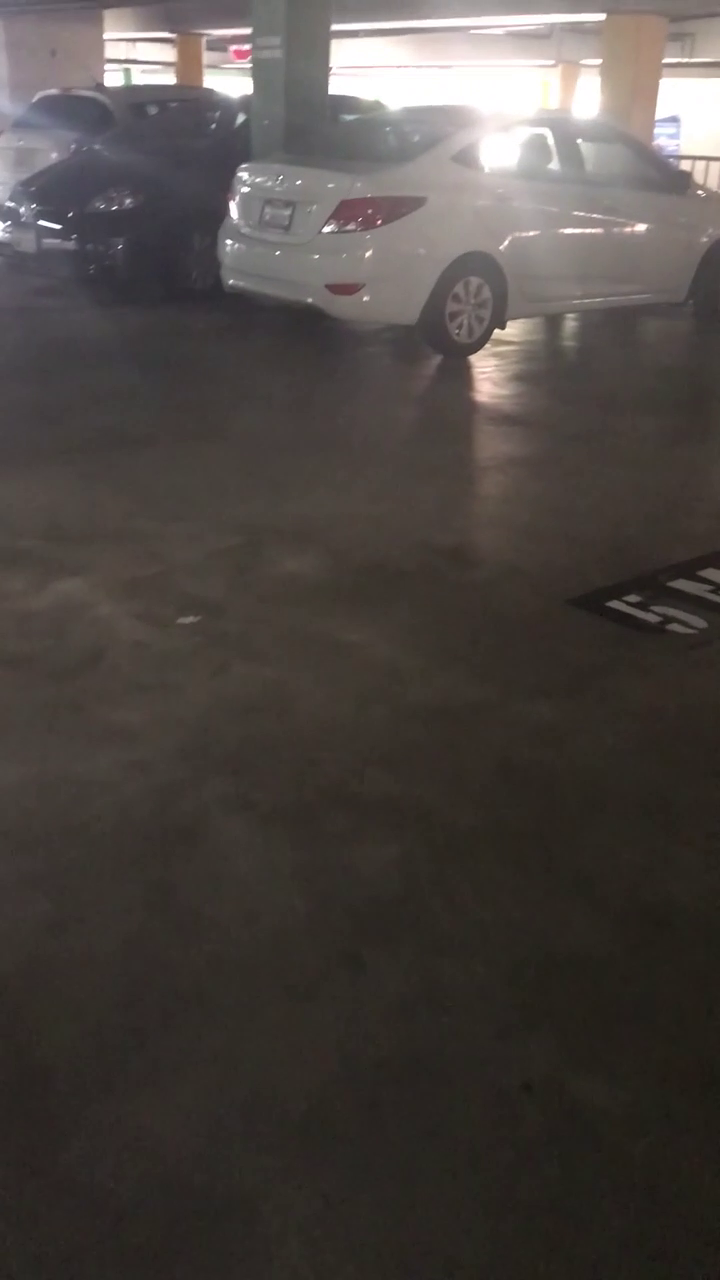car: (227, 93, 706, 353), (4, 89, 238, 294)
